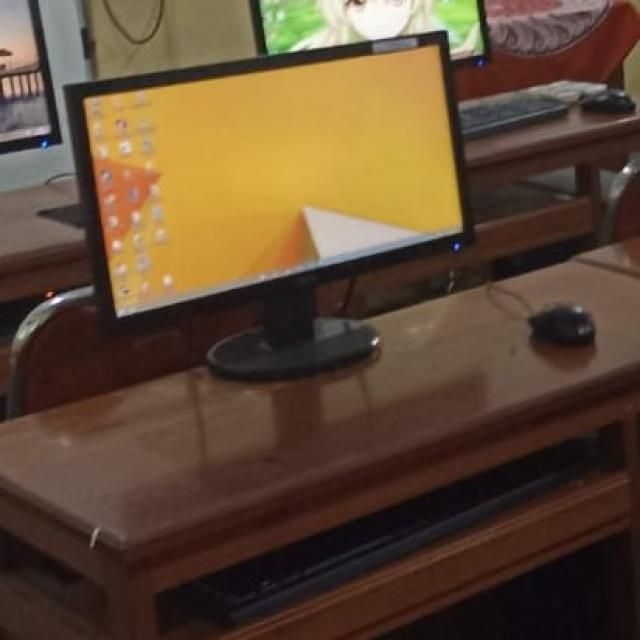onscreen: (68, 29, 472, 326), (289, 0, 486, 59)
